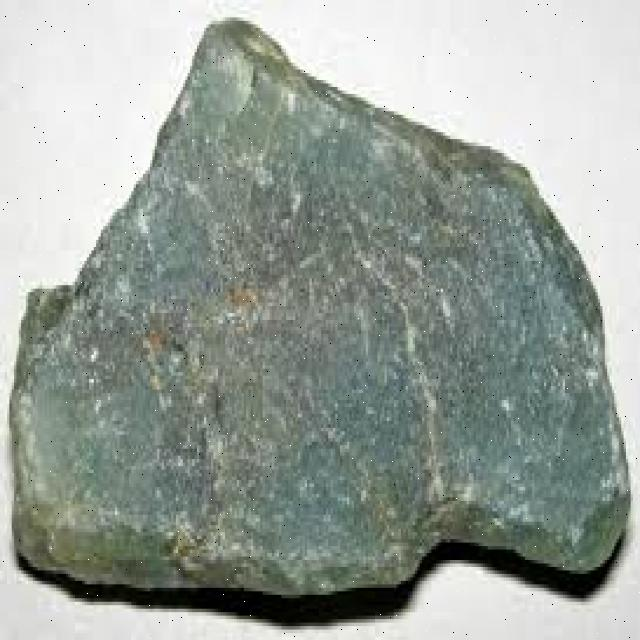Metamorphic: (4, 21, 630, 616)
